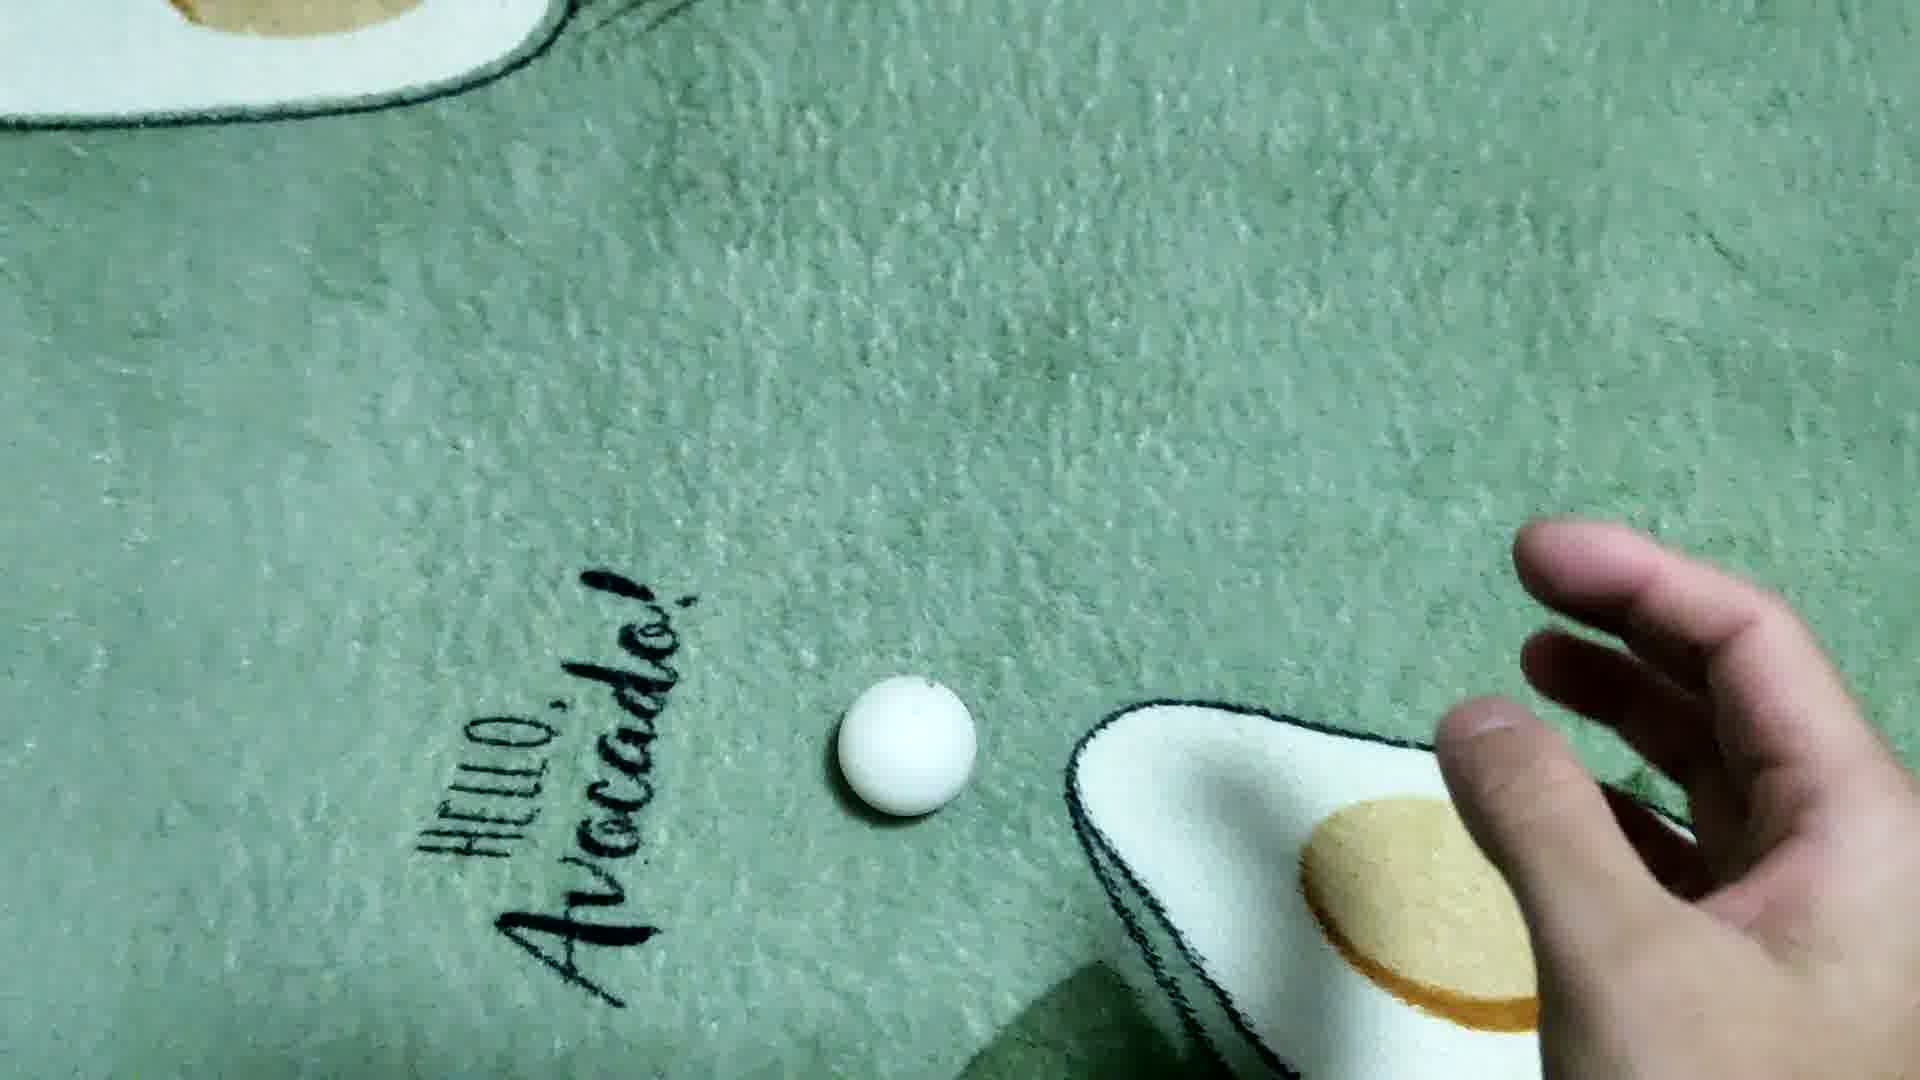Ball: (833, 674, 977, 816)
